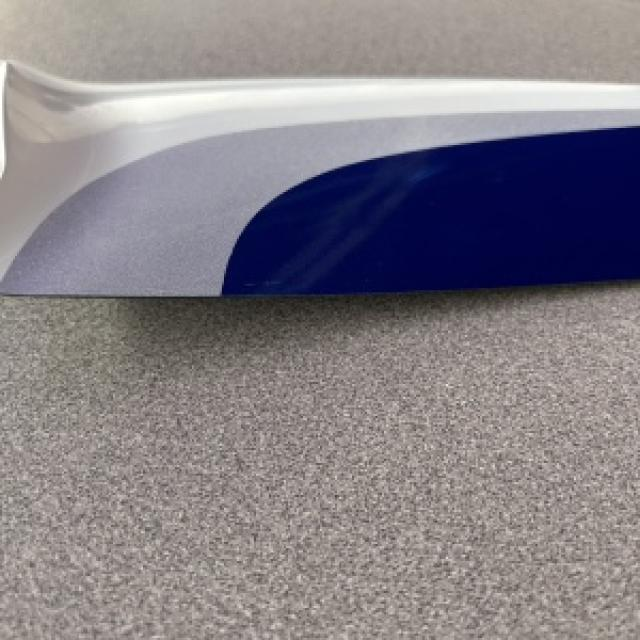healthy: (0, 62, 638, 292)
